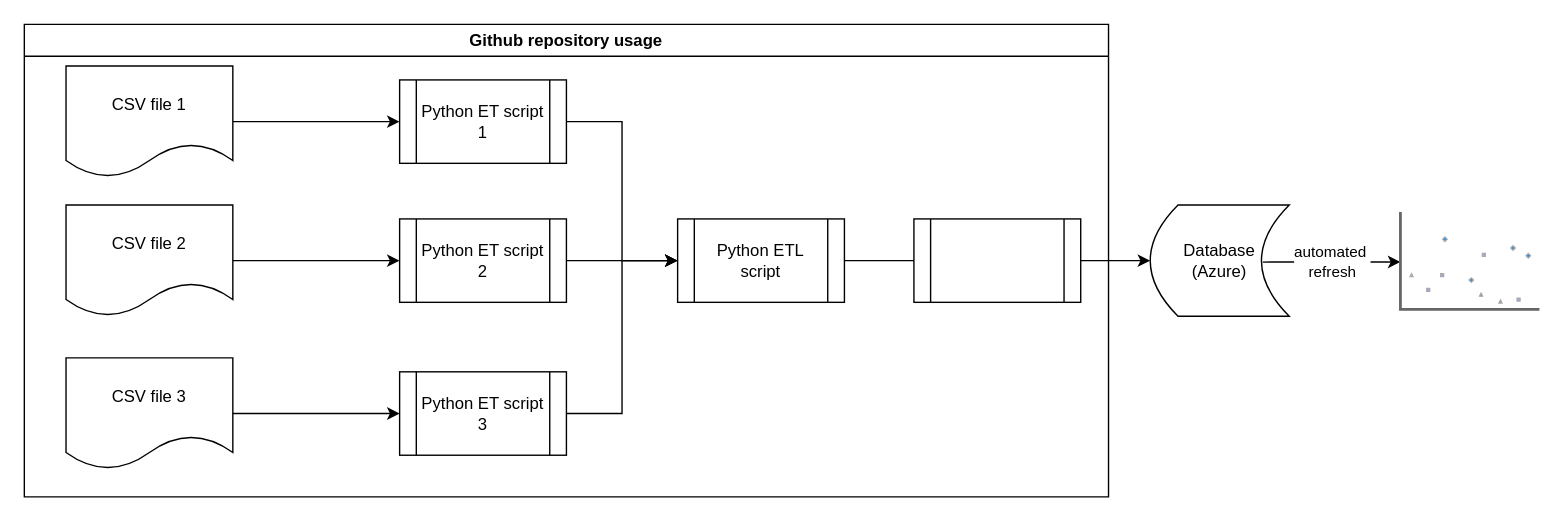
This 1564x521 diagram has some shape labels left out. The centre of each missing label's shape, as x and y in pixels:
"Power BI" goes at [1469,260].
"Unit Testing Processes" goes at [997,260].
